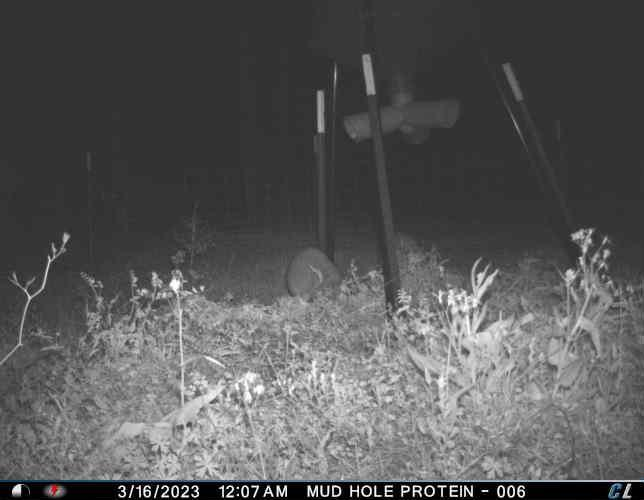Raccoon: (286, 244, 344, 301)
